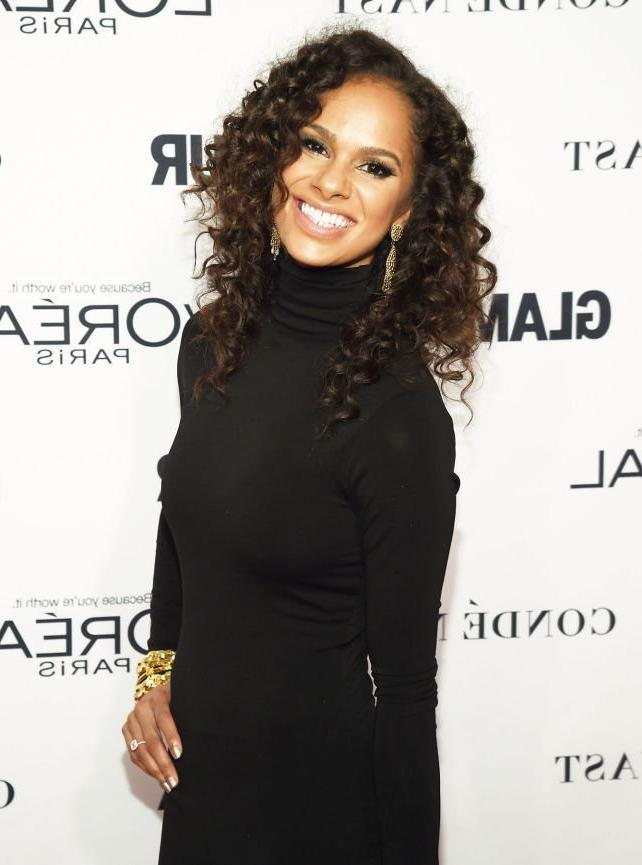Sober: (269, 86, 406, 254)
